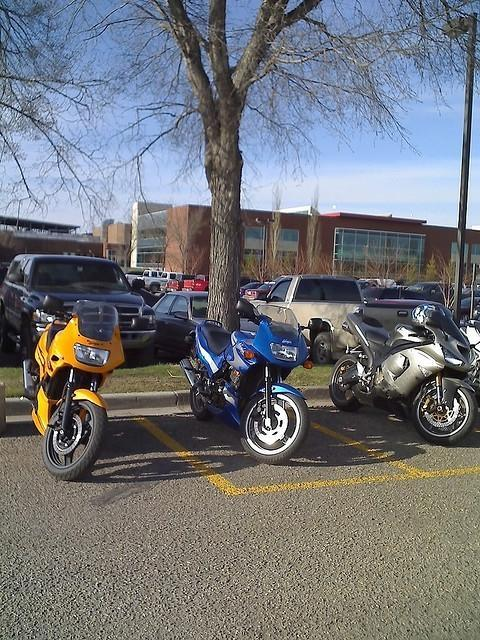car: (0, 252, 159, 366), (150, 292, 259, 358), (362, 286, 440, 306), (406, 282, 472, 302), (242, 281, 275, 302), (460, 296, 480, 321), (237, 282, 266, 298)
motorcycle: (178, 298, 324, 465), (330, 305, 476, 444), (20, 294, 126, 482), (461, 314, 480, 387)
truck: (248, 274, 440, 366), (137, 272, 183, 294), (162, 275, 210, 292), (407, 282, 444, 302)
